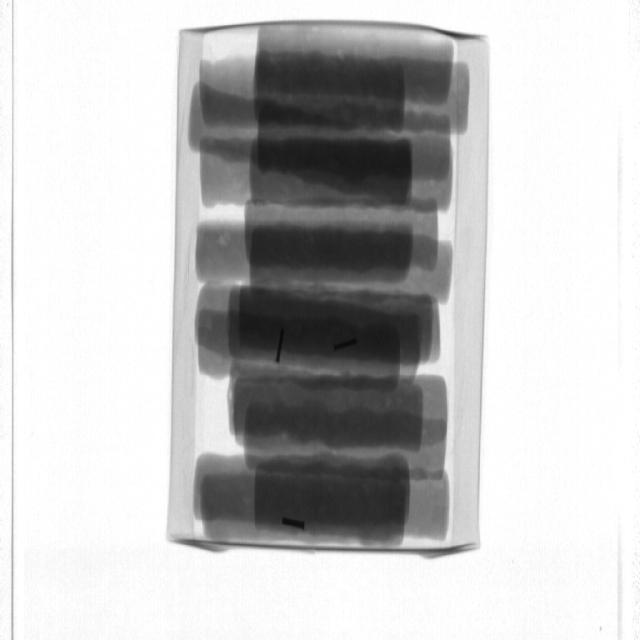ym: (334, 339, 360, 353), (282, 518, 307, 532), (277, 328, 285, 364)
